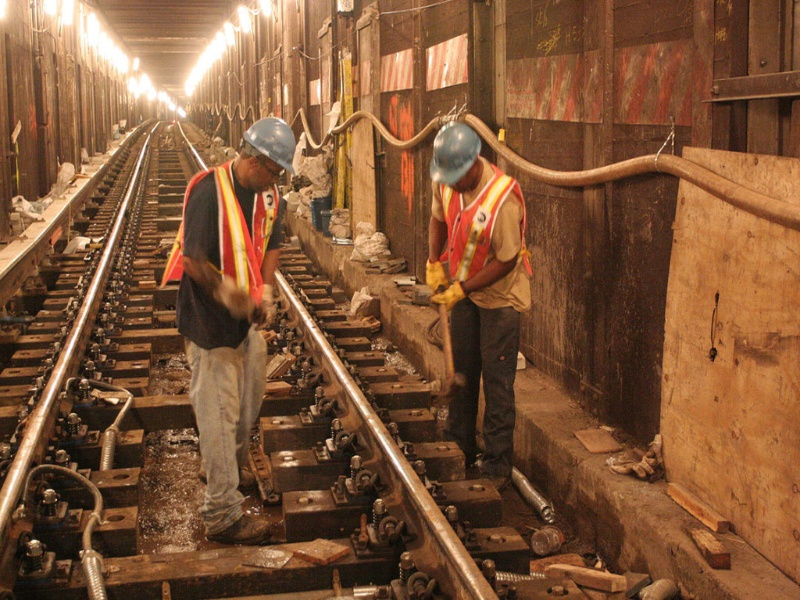helmet: (432, 122, 484, 180), (245, 118, 296, 169)
jacket: (177, 163, 275, 315), (439, 175, 526, 303)
